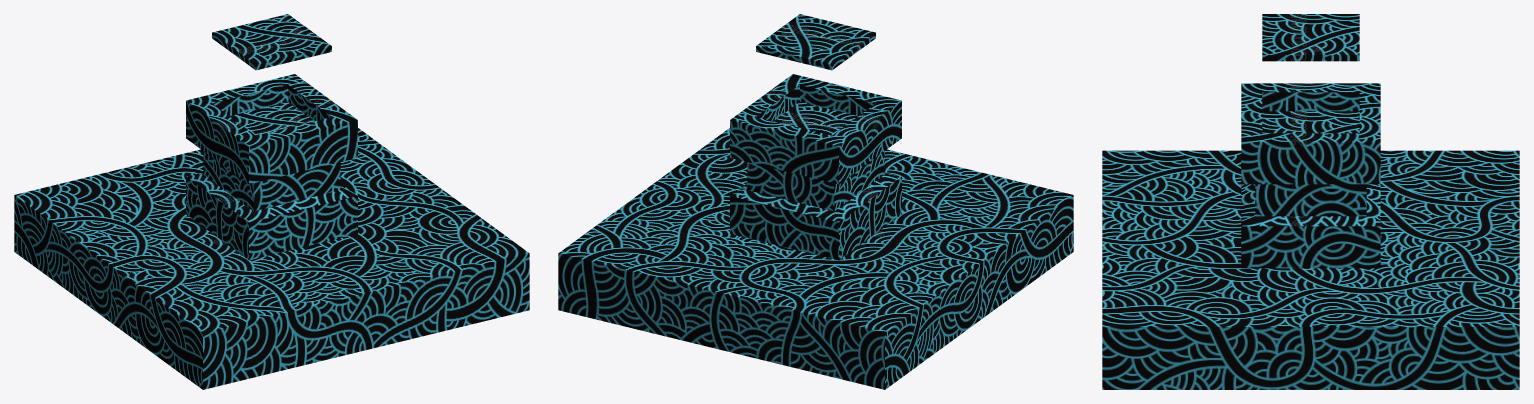
File: Button.fbx
3 renders of one model, left to right at view 1: azimuth 30°, elevation 25°; view 2: azimuth 150°, elevation 25°; view 3: azimuth 270°, elevation 25°, orthographic. The views are drawn at different scales.
Parts seen in each view (by area): view 1: Platform, Button, ThirdRune, SecondRune, FirstRune; view 2: Platform, Button, ThirdRune, SecondRune, FirstRune; view 3: Platform, Button, ThirdRune, SecondRune, FirstRune.
Boxes of the visible parts, left/top/right/bottom form: Platform: left=14, top=128, right=529, bottom=389; Button: left=186, top=74, right=357, bottom=260; ThirdRune: left=212, top=14, right=331, bottom=70; SecondRune: left=229, top=21, right=314, bottom=57; FirstRune: left=246, top=28, right=297, bottom=50; Platform: left=558, top=128, right=1073, bottom=389; Button: left=730, top=74, right=901, bottom=260; ThirdRune: left=756, top=14, right=875, bottom=70; SecondRune: left=773, top=21, right=858, bottom=57; FirstRune: left=790, top=28, right=841, bottom=50; Platform: left=1102, top=150, right=1519, bottom=389; Button: left=1241, top=83, right=1380, bottom=268; ThirdRune: left=1262, top=14, right=1359, bottom=61; SecondRune: left=1276, top=20, right=1345, bottom=49; FirstRune: left=1290, top=25, right=1331, bottom=43.
Bounding box in the file's own units: 600 × 424 × 600.
